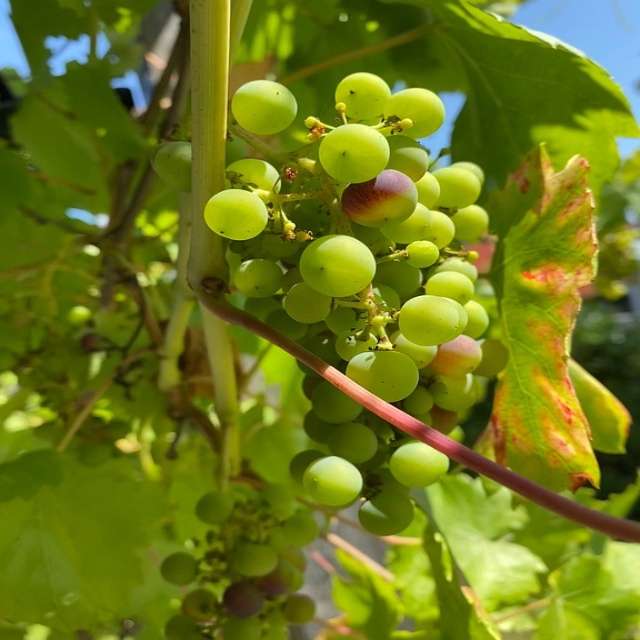grape: (199, 62, 490, 538)
